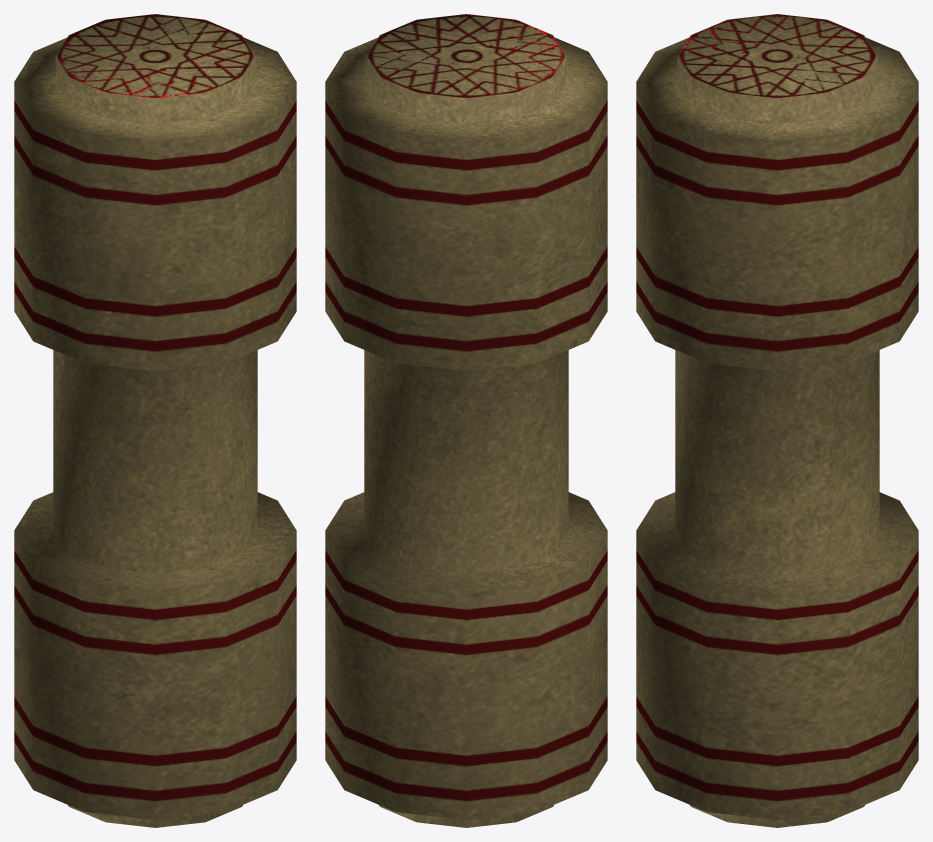
File: Pivot_4.fbx
3 views of the same model, side by side, from view 1: azimuth 30°, elevation 25°; view 2: azimuth 150°, elevation 25°; view 3: azimuth 270°, elevation 25° (orthographic).
Visible parts, largest first — view 1: Pivot_4_Model; view 2: Pivot_4_Model; view 3: Pivot_4_Model.
Boxes of the visible parts, <box> form: Pivot_4_Model: <box>14,14,296,827</box>; Pivot_4_Model: <box>325,14,607,827</box>; Pivot_4_Model: <box>636,14,918,827</box>.
Size of the model in its own units: 0.2483 by 0.708 by 0.2483.
